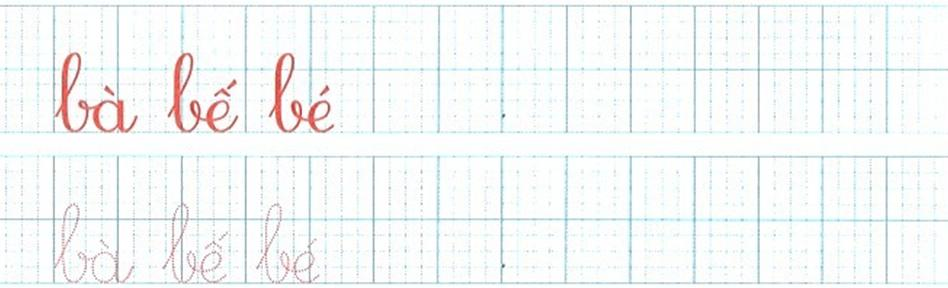text: (50, 52, 336, 138), (51, 201, 323, 287)
